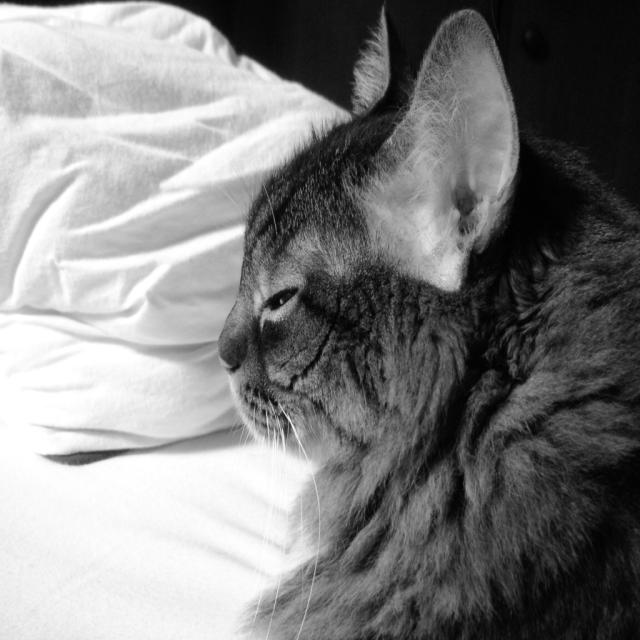Cat: (215, 6, 639, 638)
